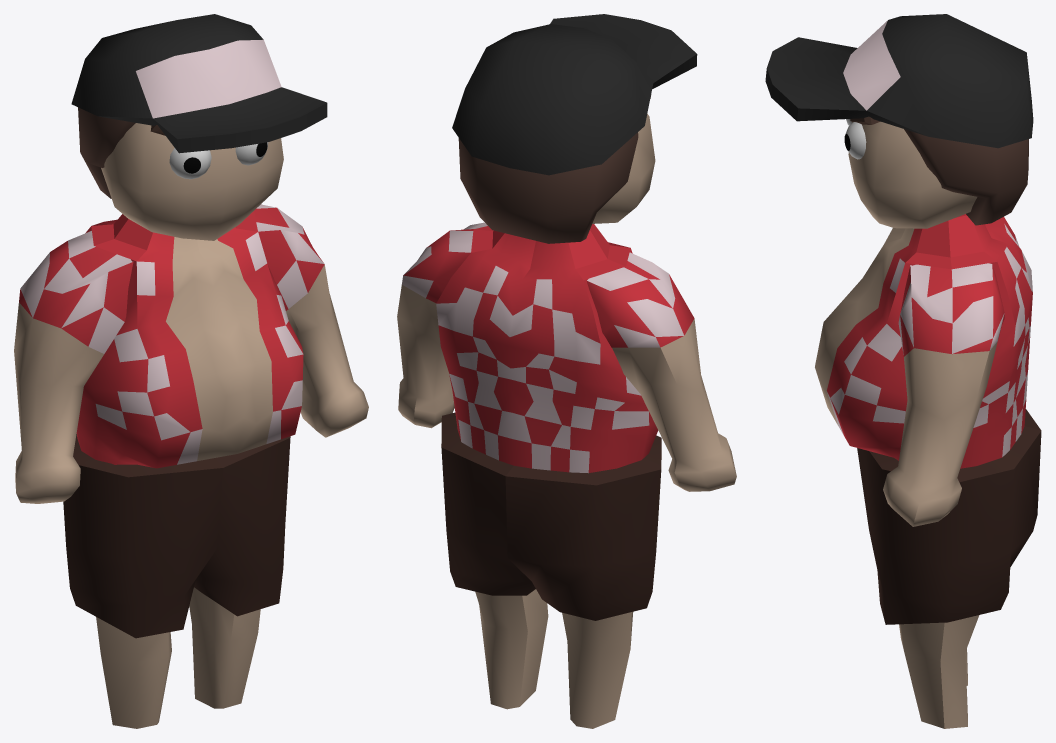
File: Dad01.fbx
The picture shows the model from 3 angles, left to right: view 1: azimuth 30°, elevation 25°; view 2: azimuth 150°, elevation 25°; view 3: azimuth 270°, elevation 25°; orthographic projection. The views are drawn at different scales.
Visible parts, largest first — view 1: DadBody, Dad_ArmR, Dad_ArmL; view 2: DadBody, Dad_ArmR, Dad_ArmL; view 3: DadBody, Dad_ArmL.
Part boxes in pixels (x1,y1,x2,y2): DadBody: [63, 14, 327, 728]; Dad_ArmR: [14, 231, 133, 503]; Dad_ArmL: [254, 204, 368, 437]; DadBody: [436, 14, 697, 728]; Dad_ArmR: [587, 252, 736, 491]; Dad_ArmL: [397, 222, 487, 428]; DadBody: [765, 14, 1041, 728]; Dad_ArmL: [883, 263, 1004, 526].
Bounding box in the file's own units: 178 × 334 × 124.
